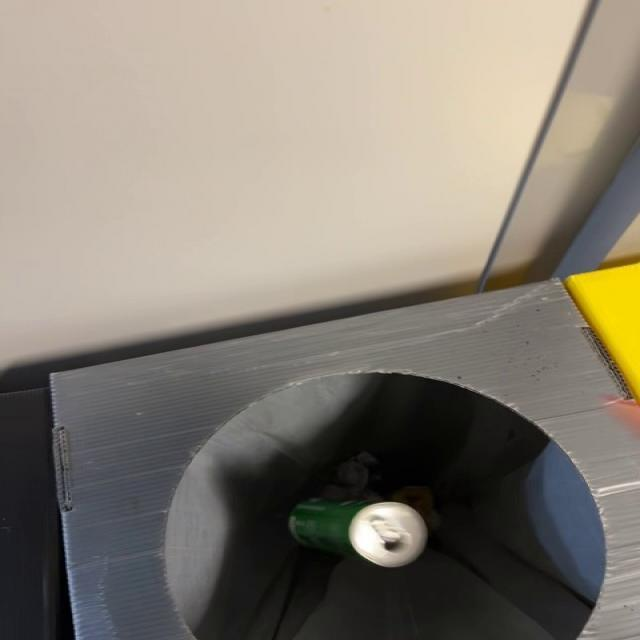Bin: (52, 280, 639, 640)
Metal: (288, 500, 428, 568)
